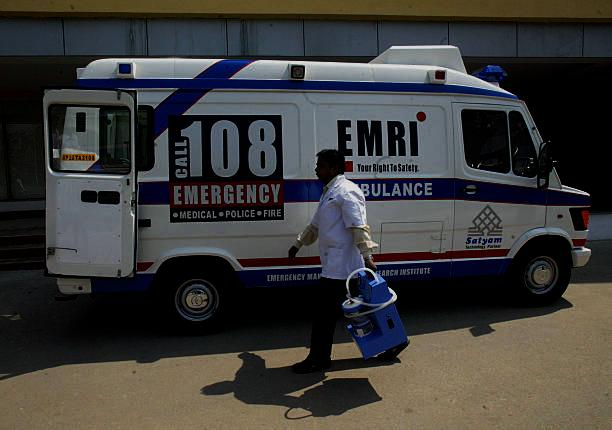ambulance: (111, 70, 302, 232)
